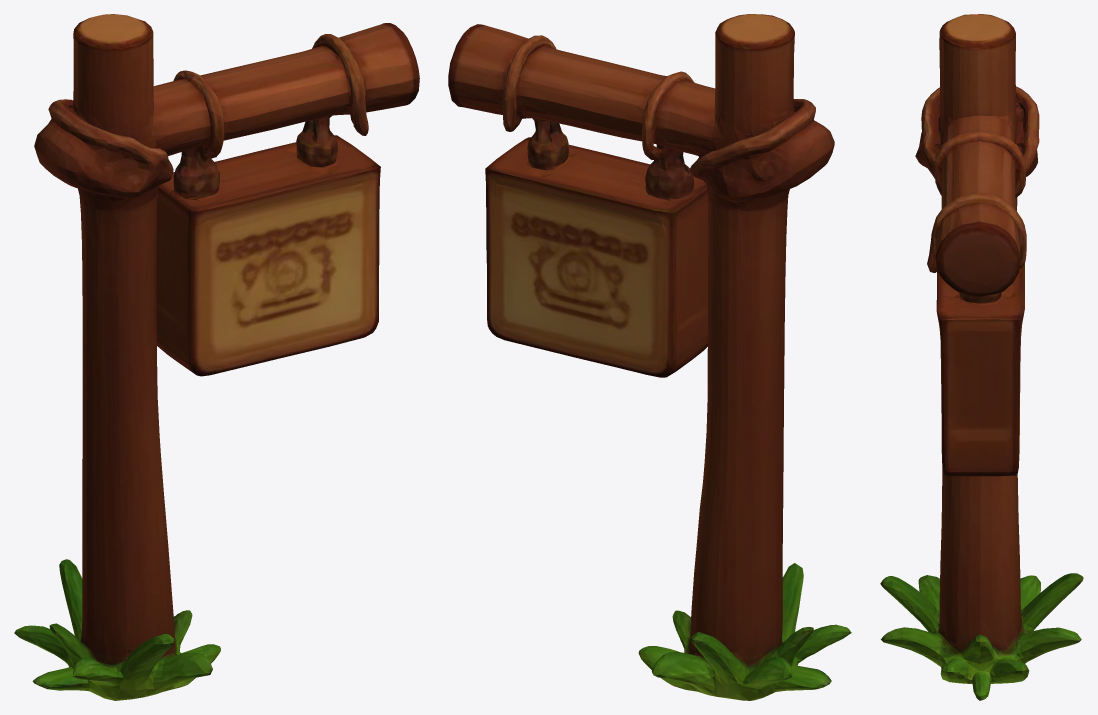
File: signpost.glb
3 views of the same model, side by side, from view 1: azimuth 30°, elevation 25°; view 2: azimuth 150°, elevation 25°; view 3: azimuth 270°, elevation 25° (orthographic). The views are drawn at different scales.
Visible parts, largest first — view 1: world.001; view 2: world.001; view 3: world.001.
Part boxes in pixels (x1,y1,x2,y2): world.001: [14, 14, 419, 700]; world.001: [448, 14, 851, 700]; world.001: [880, 14, 1083, 700].
Bounding box in the file's own units: 0.5778 × 0.9991 × 0.2926.
1 material, 1 textured.
